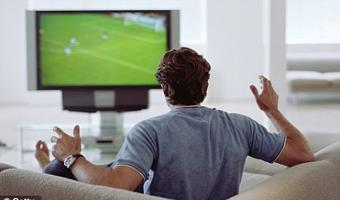person: (36, 48, 317, 200)
